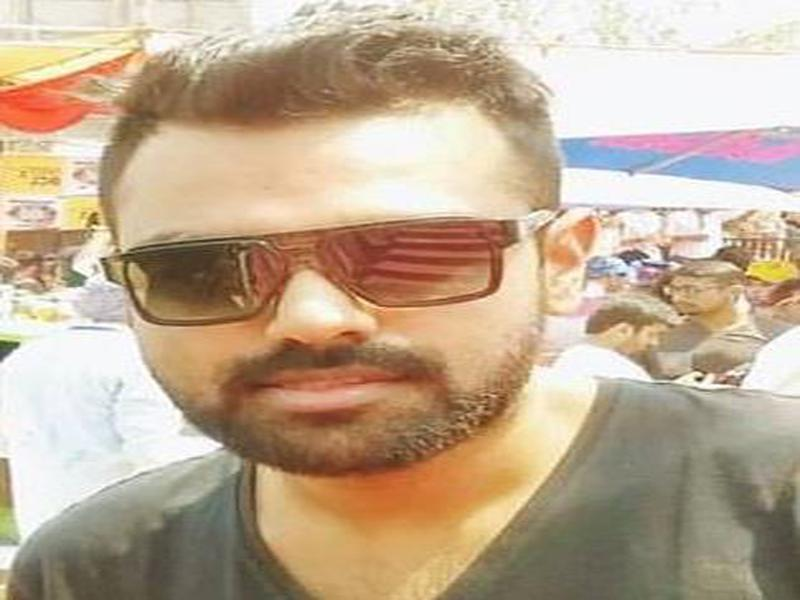without_mask: (106, 125, 542, 472)
